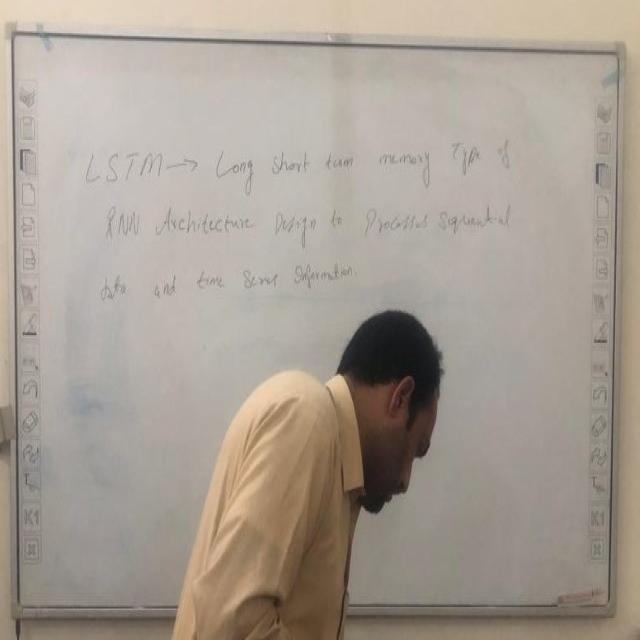Instructor: (195, 292, 446, 640)
White-board: (9, 29, 621, 612)
